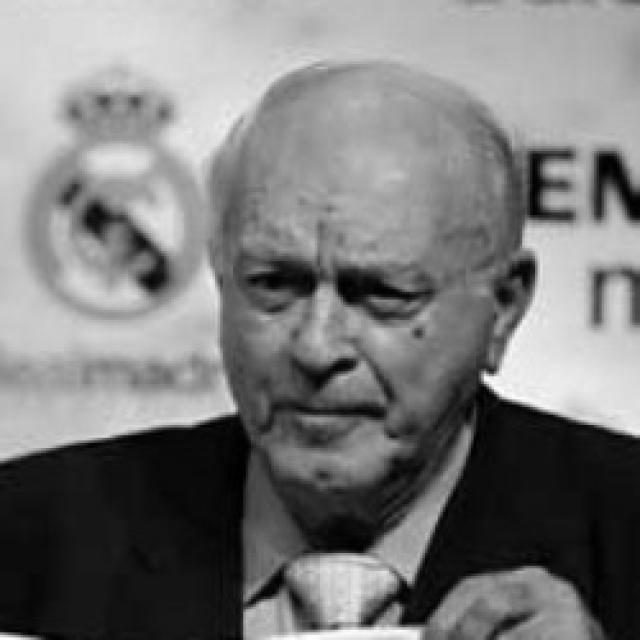real: (209, 94, 533, 506), (229, 240, 438, 319)
